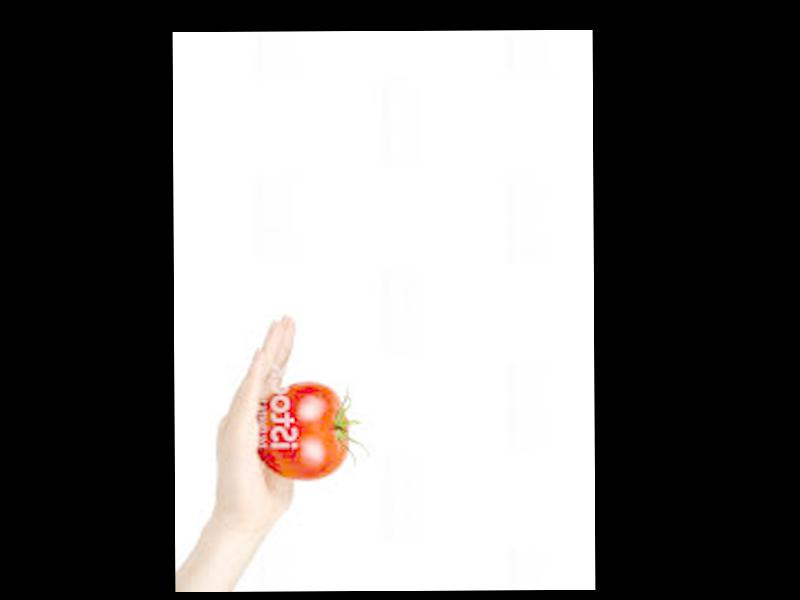Tomato: (258, 383, 351, 481)
